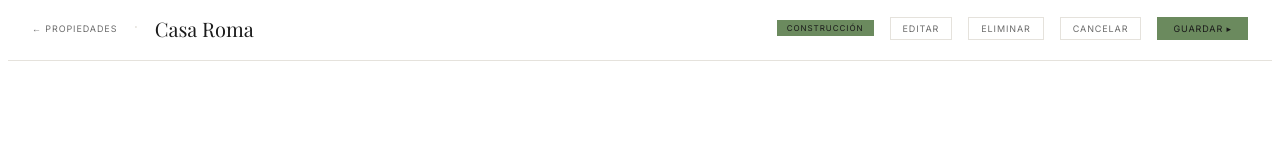
Test: DetailHeader › drops the edit CANCELAR while confirming a delete, so the label stays unambiguous
Click the button "ELIMINAR" at {"x": 1006, "y": 28}, box [968,16,1044,40]
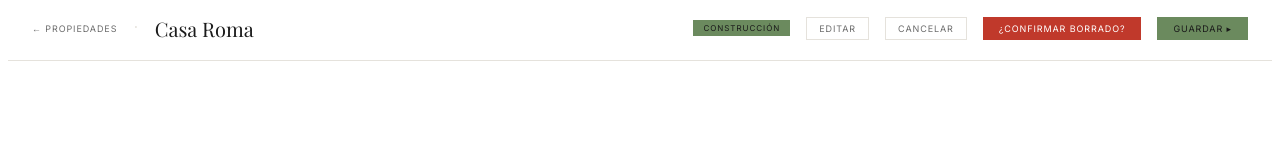
Click the button "CANCELAR" at {"x": 926, "y": 28}, box [885,16,967,40]
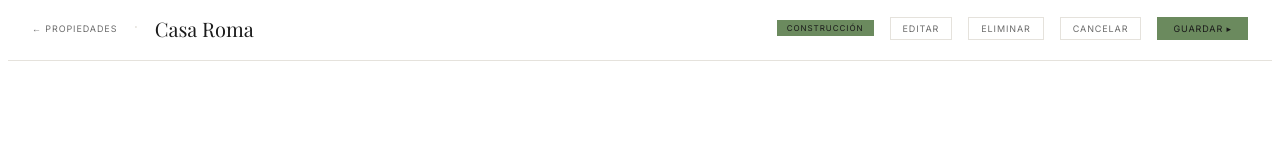
Check: the button "ELIMINAR" is shown, box [968,16,1044,40]
